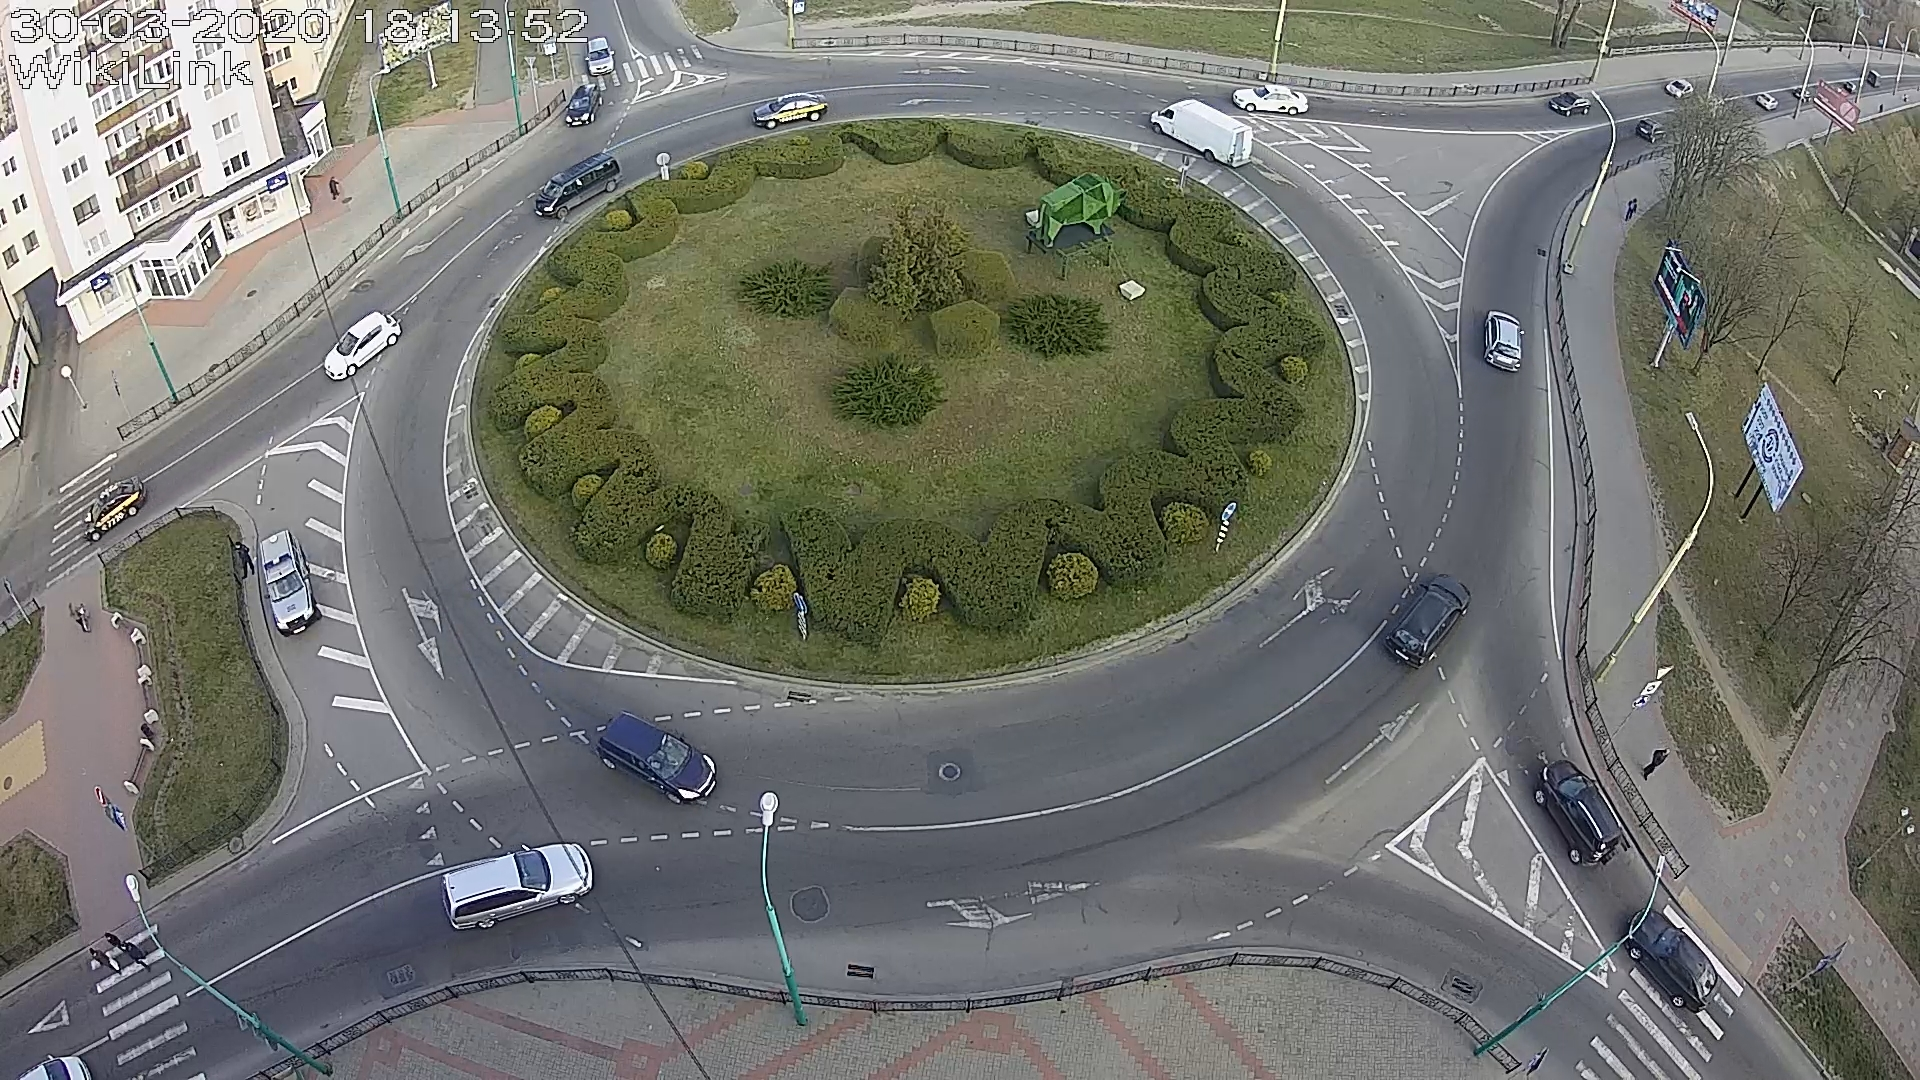car: (440, 843, 592, 931), (593, 709, 717, 806), (1623, 907, 1724, 1013), (1534, 760, 1625, 866), (1379, 574, 1472, 670), (1150, 98, 1253, 169), (258, 527, 322, 638), (534, 152, 622, 220), (323, 310, 404, 381), (82, 475, 148, 545), (752, 91, 828, 131), (1482, 310, 1524, 372), (1232, 84, 1309, 116), (564, 83, 603, 128), (585, 36, 615, 76), (1549, 91, 1592, 117), (1635, 117, 1668, 142)
